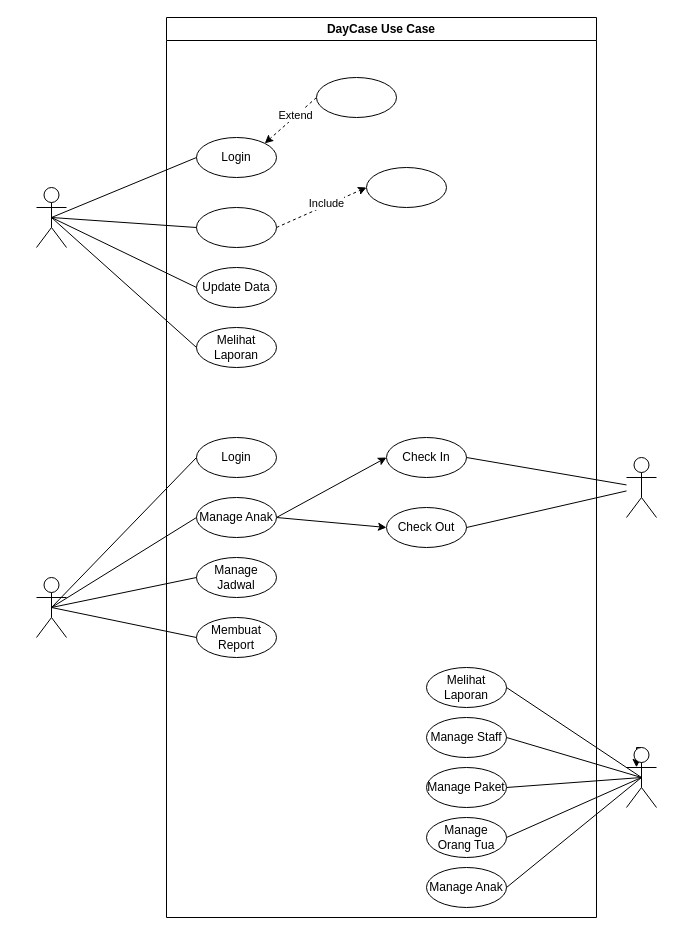
Image size: 676x935. Some labels were removed from this diagram. Here are the shapes that lost their labels. From the top down, the centre of each, then its label:
At (x=356, y=97): "Registrasi Akun".
At (x=406, y=187): "Memilih Kebutuhan/Paket".
At (x=51, y=217): "Orang Tua".
At (x=236, y=227): "Registrasi Anak".
At (x=641, y=487): "Anak".
At (x=51, y=607): "Staf Daycare".
At (x=641, y=777): "Admin".
